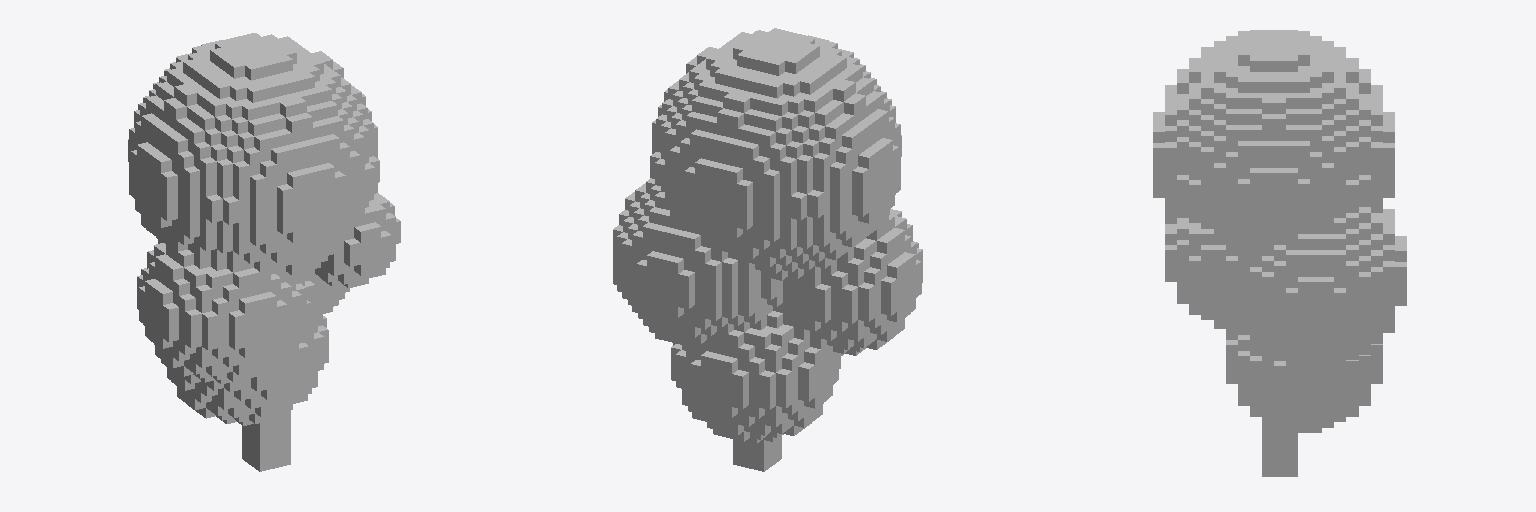
The model's file is tree1.obj.
3 renders of one model, left to right at view 1: azimuth 30°, elevation 25°; view 2: azimuth 150°, elevation 25°; view 3: azimuth 270°, elevation 25°, orthographic.
Visible parts, largest first — view 1: tree1; view 2: tree1; view 3: tree1.
Part boxes in pixels (left/top/right/bottom): tree1: left=128, top=33, right=400, bottom=471; tree1: left=613, top=28, right=922, bottom=471; tree1: left=1153, top=30, right=1406, bottom=476.
Size of the model in its own units: 23 by 38 by 21.